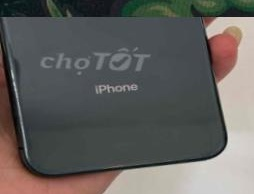scratch: (1, 68, 26, 92), (14, 118, 28, 127)
